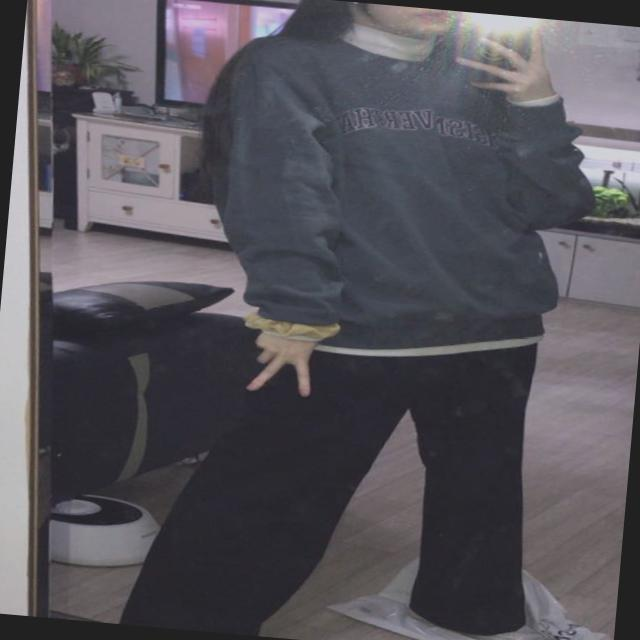mtm: (188, 0, 610, 367)
slacks: (110, 300, 550, 640)
